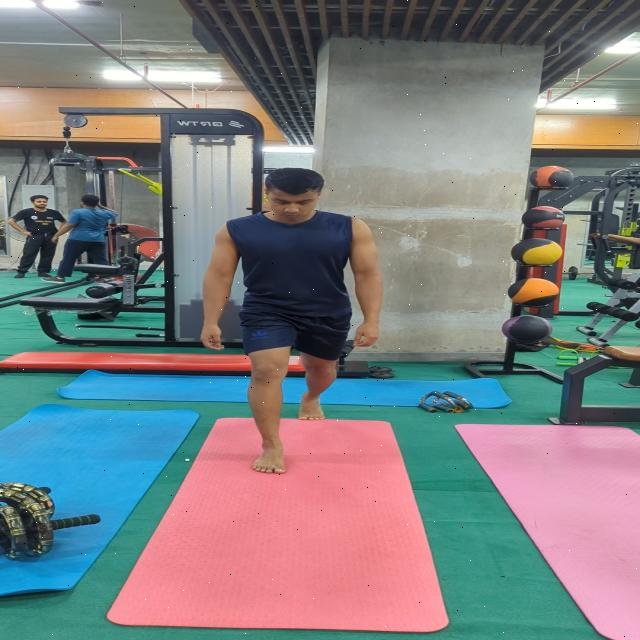Normal_Lunges: (198, 169, 390, 479)
